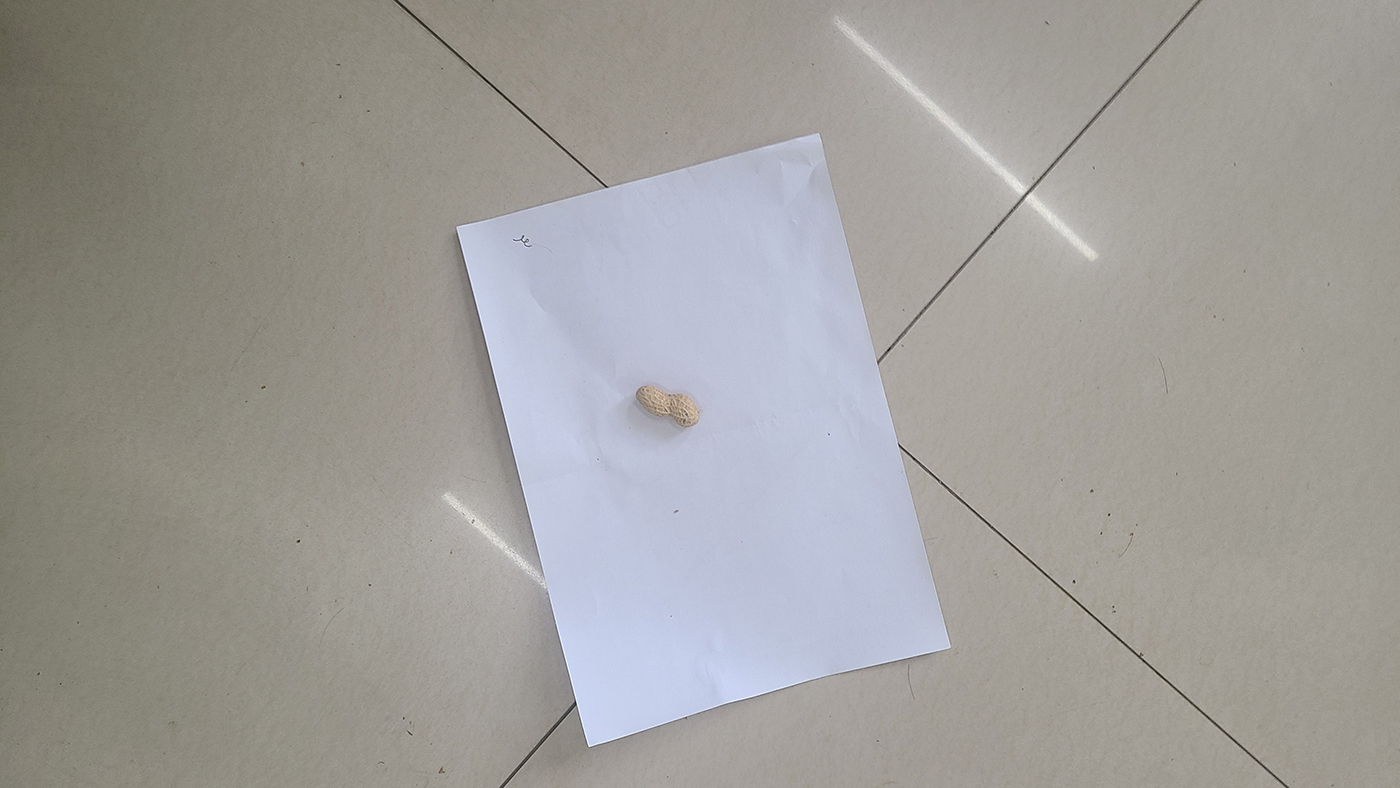h: (635, 385, 700, 427)
